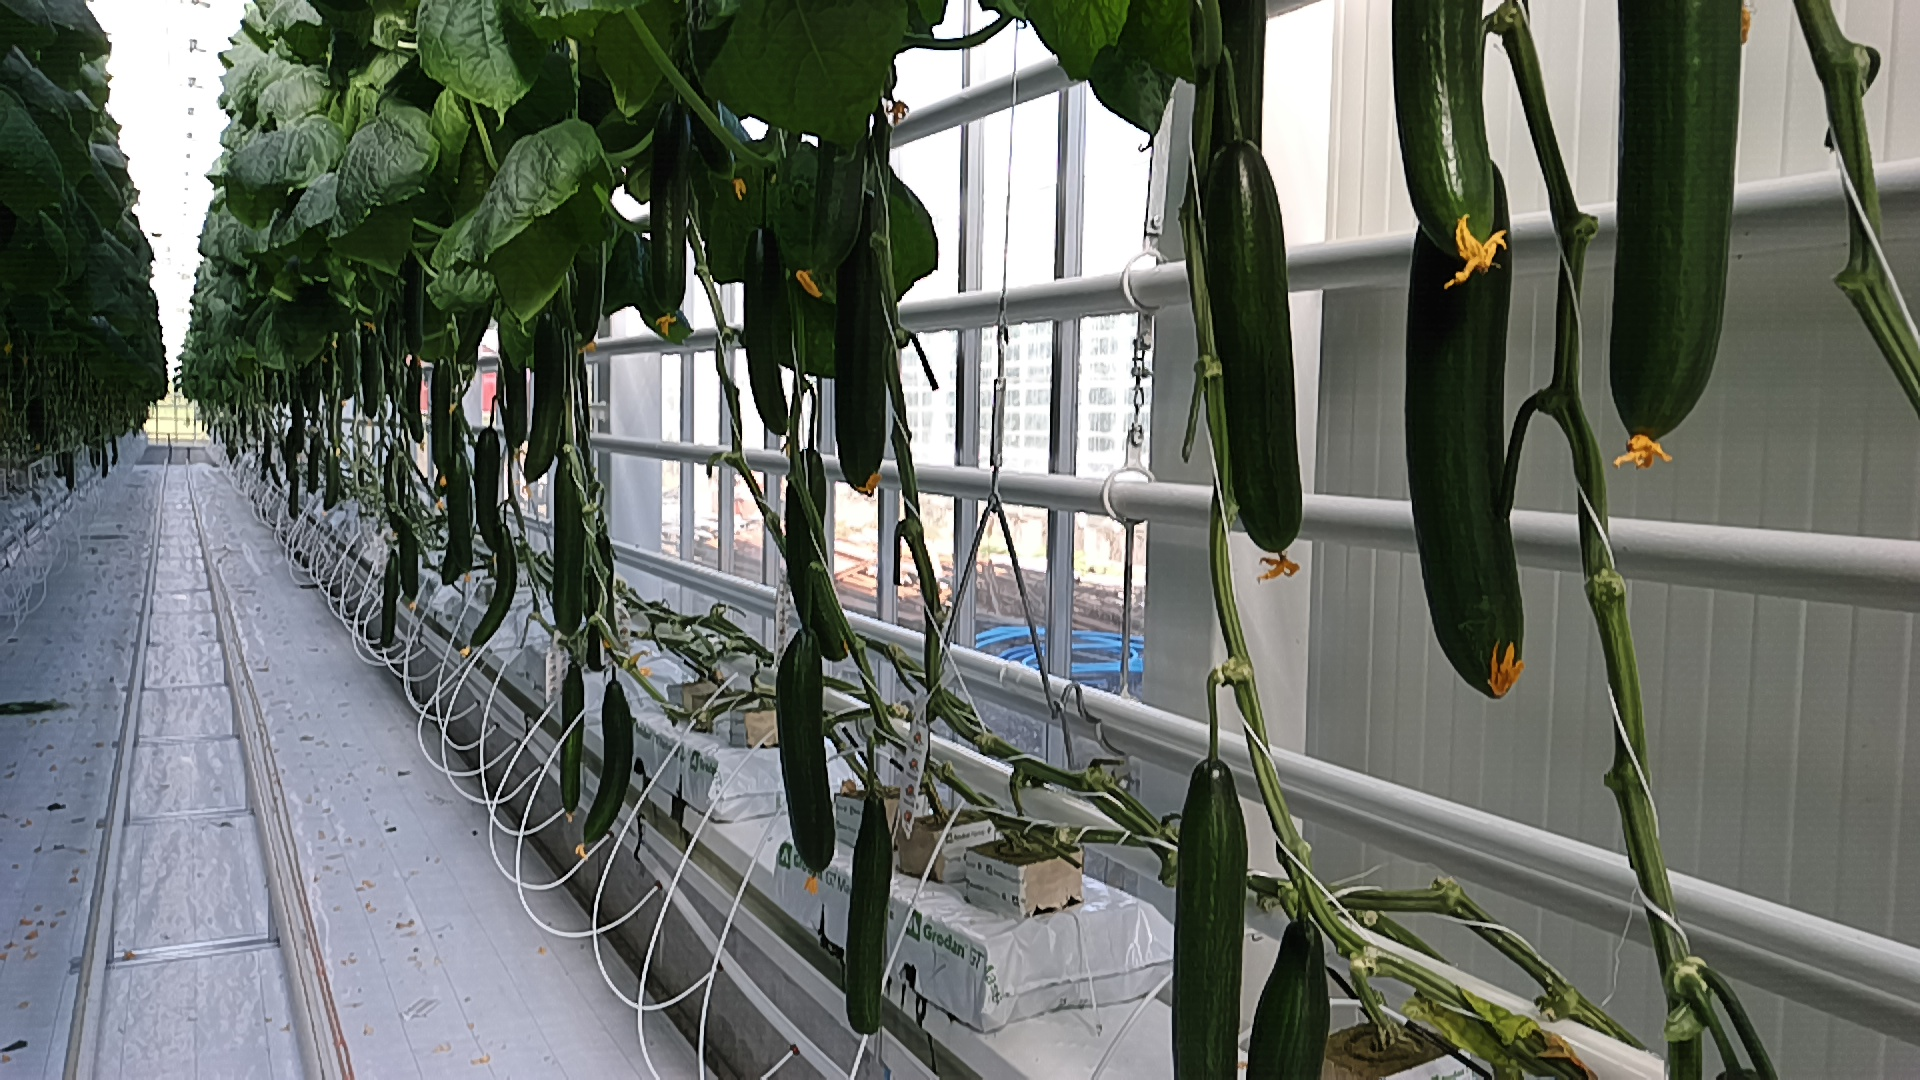gurka: (1200, 131, 1327, 574), (774, 620, 841, 876), (550, 657, 589, 818)
